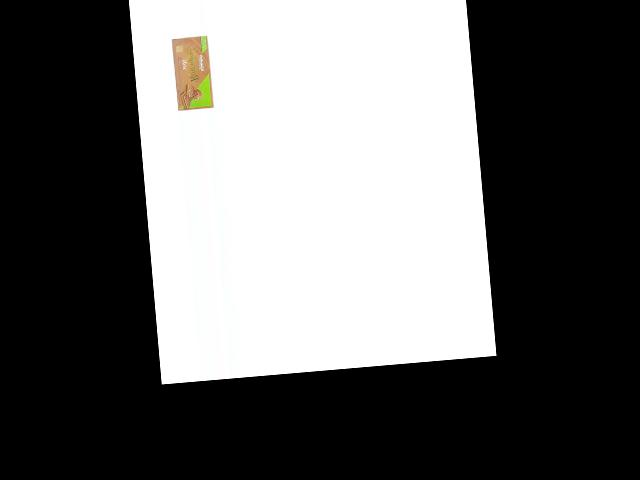chocolate: (168, 32, 215, 112)
